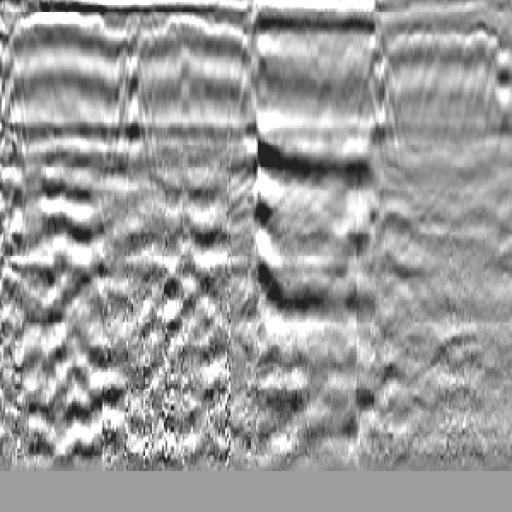non-metallic: (99, 41, 160, 175)
